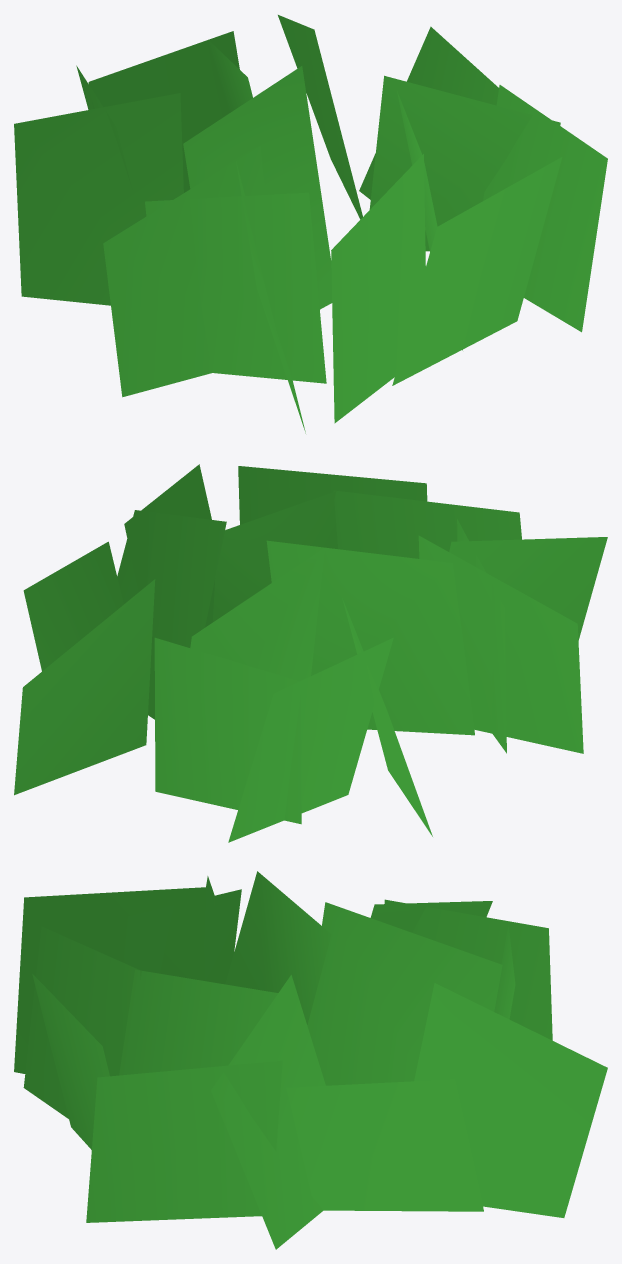
File: Plant_Grass_02.fbx
The picture shows the model from 3 angles, top to bottom: view 1: azimuth 30°, elevation 25°; view 2: azimuth 150°, elevation 25°; view 3: azimuth 270°, elevation 25°; orthographic projection. The views are drawn at different scales.
Visible parts, largest first — view 1: Plant_Grass_02_LOD1; view 2: Plant_Grass_02_LOD1; view 3: Plant_Grass_02_LOD1.
Boxes of the visible parts, x1,y1,x2,y2 form: Plant_Grass_02_LOD1: (14,15,607,433); Plant_Grass_02_LOD1: (14,464,607,842); Plant_Grass_02_LOD1: (14,871,607,1249).
Size of the model in its own units: 74.11 by 32.87 by 81.23.
